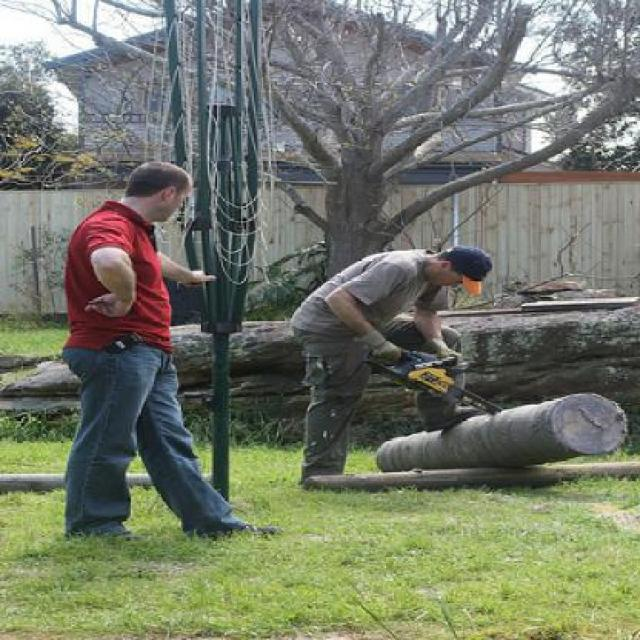Chainsaw: (395, 353, 500, 413)
